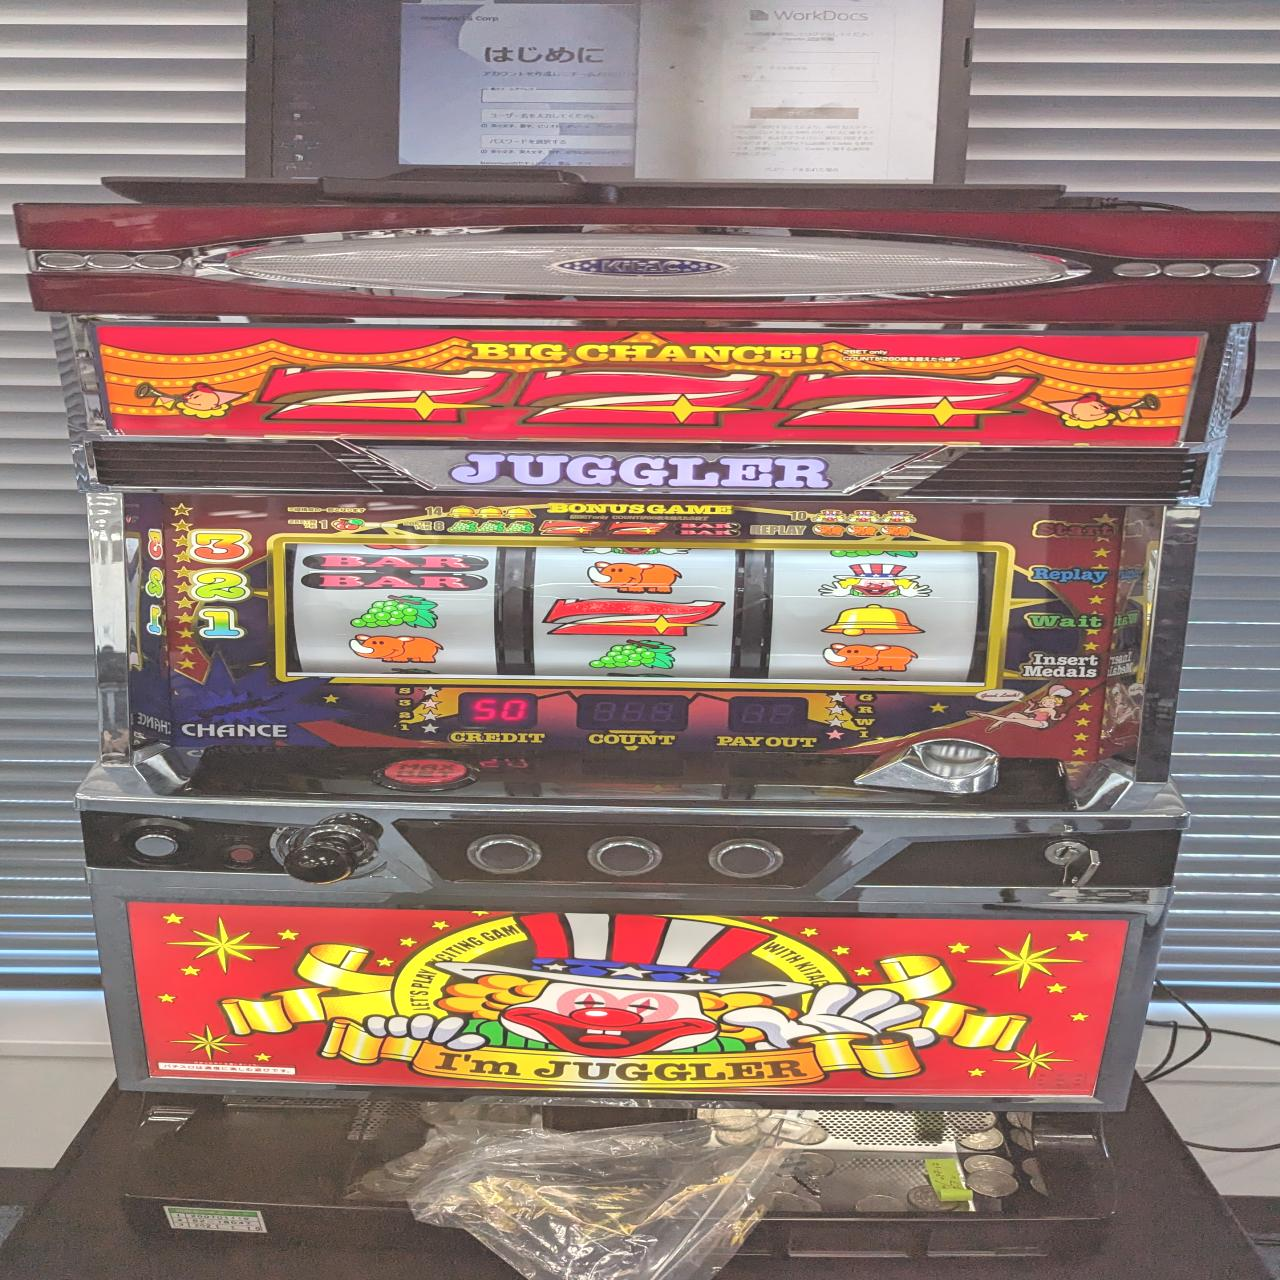7: (540, 597, 727, 639)
Display: (277, 536, 1002, 687)
bar: (298, 553, 491, 592)
bell: (818, 602, 931, 638)
clown: (816, 561, 935, 599)
grape: (340, 594, 444, 629), (586, 639, 679, 670)
rhino: (580, 560, 689, 597), (818, 640, 918, 673), (348, 633, 447, 666)
